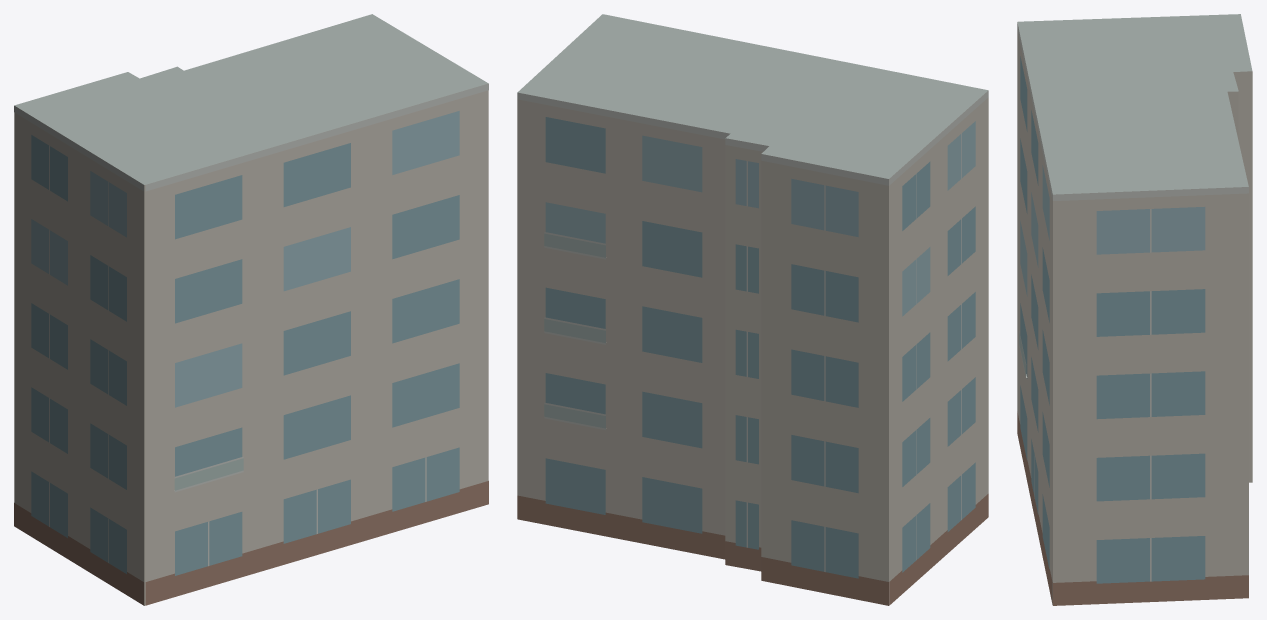
File: survey-upis-32981840.glb
The picture shows the model from 3 angles, left to right: view 1: azimuth 30°, elevation 25°; view 2: azimuth 150°, elevation 25°; view 3: azimuth 270°, elevation 25°; orthographic projection. The views are drawn at different scales.
Visible parts, largest first — view 1: survey-upis-32981840.tmp; view 2: survey-upis-32981840.tmp; view 3: survey-upis-32981840.tmp.
Boxes of the visible parts, left/top/right/bottom form: survey-upis-32981840.tmp: left=14, top=14, right=488, bottom=605; survey-upis-32981840.tmp: left=517, top=14, right=988, bottom=605; survey-upis-32981840.tmp: left=1017, top=14, right=1252, bottom=605.
Bounding box in the file's own units: 14.37 × 15.25 × 7.91.
